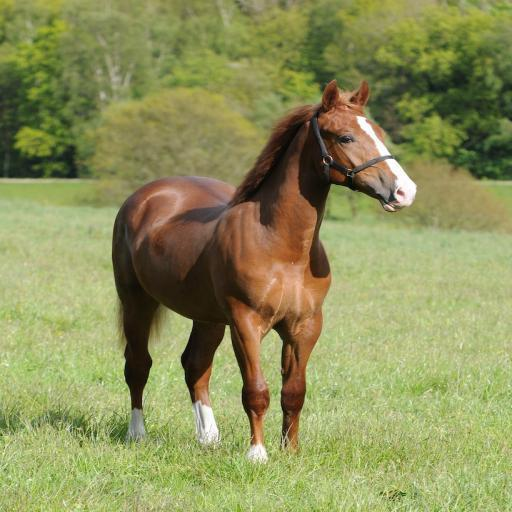horse: (107, 78, 418, 465)
